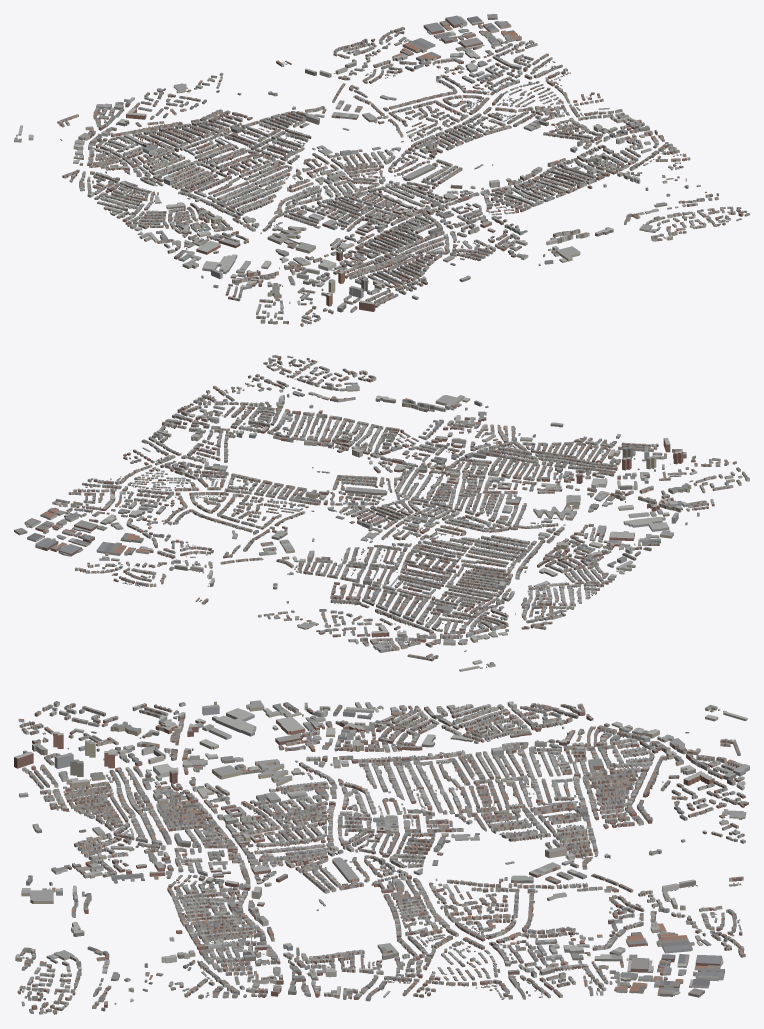
The model's file is buildings_b0_3_2.glb.
3 views of the same model, one above another, from view 1: azimuth 30°, elevation 25°; view 2: azimuth 150°, elevation 25°; view 3: azimuth 270°, elevation 25° (orthographic). The views are drawn at different scales.
Visible parts, largest first — view 1: t13_09_buildings_b0, t12_10_buildings_b0, t13_10_buildings_b0, t13_08_buildings_b0, t15_10_buildings_b0, t15_09_buildings_b0, t12_09_buildings_b0, t12_11_buildings_b0, t15_11_buildings_b0, t14_10_buildings_b0, t12_08_buildings_b0, t14_09_buildings_b0 (+4 smaller); view 2: t12_10_buildings_b0, t13_10_buildings_b0, t13_09_buildings_b0, t13_08_buildings_b0, t15_10_buildings_b0, t15_09_buildings_b0, t12_09_buildings_b0, t12_11_buildings_b0, t15_11_buildings_b0, t14_09_buildings_b0, t12_08_buildings_b0, t14_10_buildings_b0 (+4 smaller); view 3: t13_09_buildings_b0, t12_10_buildings_b0, t13_10_buildings_b0, t13_08_buildings_b0, t12_09_buildings_b0, t15_10_buildings_b0, t12_11_buildings_b0, t15_09_buildings_b0, t15_11_buildings_b0, t12_08_buildings_b0, t14_10_buildings_b0, t14_09_buildings_b0 (+4 smaller).
Part boxes in pixels (left/top/right/bottom): t13_09_buildings_b0: left=258, top=170, right=445, bottom=250; t12_10_buildings_b0: left=79, top=154, right=255, bottom=232; t13_10_buildings_b0: left=195, top=117, right=376, bottom=203; t13_08_buildings_b0: left=330, top=221, right=489, bottom=299; t15_10_buildings_b0: left=440, top=53, right=609, bottom=133; t15_09_buildings_b0: left=543, top=109, right=686, bottom=187; t12_09_buildings_b0: left=137, top=201, right=315, bottom=278; t12_11_buildings_b0: left=14, top=102, right=195, bottom=182; t15_11_buildings_b0: left=362, top=14, right=537, bottom=82; t14_10_buildings_b0: left=305, top=93, right=492, bottom=170; t12_08_buildings_b0: left=213, top=254, right=389, bottom=326; t14_09_buildings_b0: left=380, top=152, right=565, bottom=218; t12_10_buildings_b0: left=438, top=542, right=620, bottom=620; t13_10_buildings_b0: left=315, top=506, right=500, bottom=590; t13_09_buildings_b0: left=383, top=456, right=562, bottom=542; t13_08_buildings_b0: left=453, top=422, right=634, bottom=489; t15_10_buildings_b0: left=68, top=447, right=252, bottom=520; t15_09_buildings_b0: left=141, top=390, right=330, bottom=463; t12_09_buildings_b0: left=501, top=492, right=687, bottom=574; t12_11_buildings_b0: left=362, top=588, right=552, bottom=671; t15_11_buildings_b0: left=14, top=497, right=178, bottom=582; t14_09_buildings_b0: left=304, top=422, right=446, bottom=506; t12_08_buildings_b0: left=575, top=437, right=749, bottom=516; t14_10_buildings_b0: left=200, top=478, right=381, bottom=562; t13_09_buildings_b0: left=195, top=778, right=386, bottom=855; t12_10_buildings_b0: left=379, top=701, right=564, bottom=782; t13_10_buildings_b0: left=379, top=778, right=578, bottom=852; t13_08_buildings_b0: left=19, top=770, right=201, bottom=855; t12_09_buildings_b0: left=194, top=700, right=382, bottom=786; t15_10_buildings_b0: left=377, top=920, right=563, bottom=999; t12_11_buildings_b0: left=551, top=703, right=749, bottom=785; t15_09_buildings_b0: left=197, top=921, right=382, bottom=1001; t15_11_buildings_b0: left=558, top=919, right=745, bottom=997; t12_08_buildings_b0: left=14, top=701, right=207, bottom=782; t14_10_buildings_b0: left=379, top=846, right=567, bottom=924; t14_09_buildings_b0: left=197, top=850, right=384, bottom=926.
Size of the model in its own units: 2024 by 72.88 by 2031.
